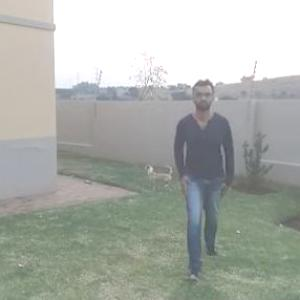follow: (175, 83, 229, 246)
